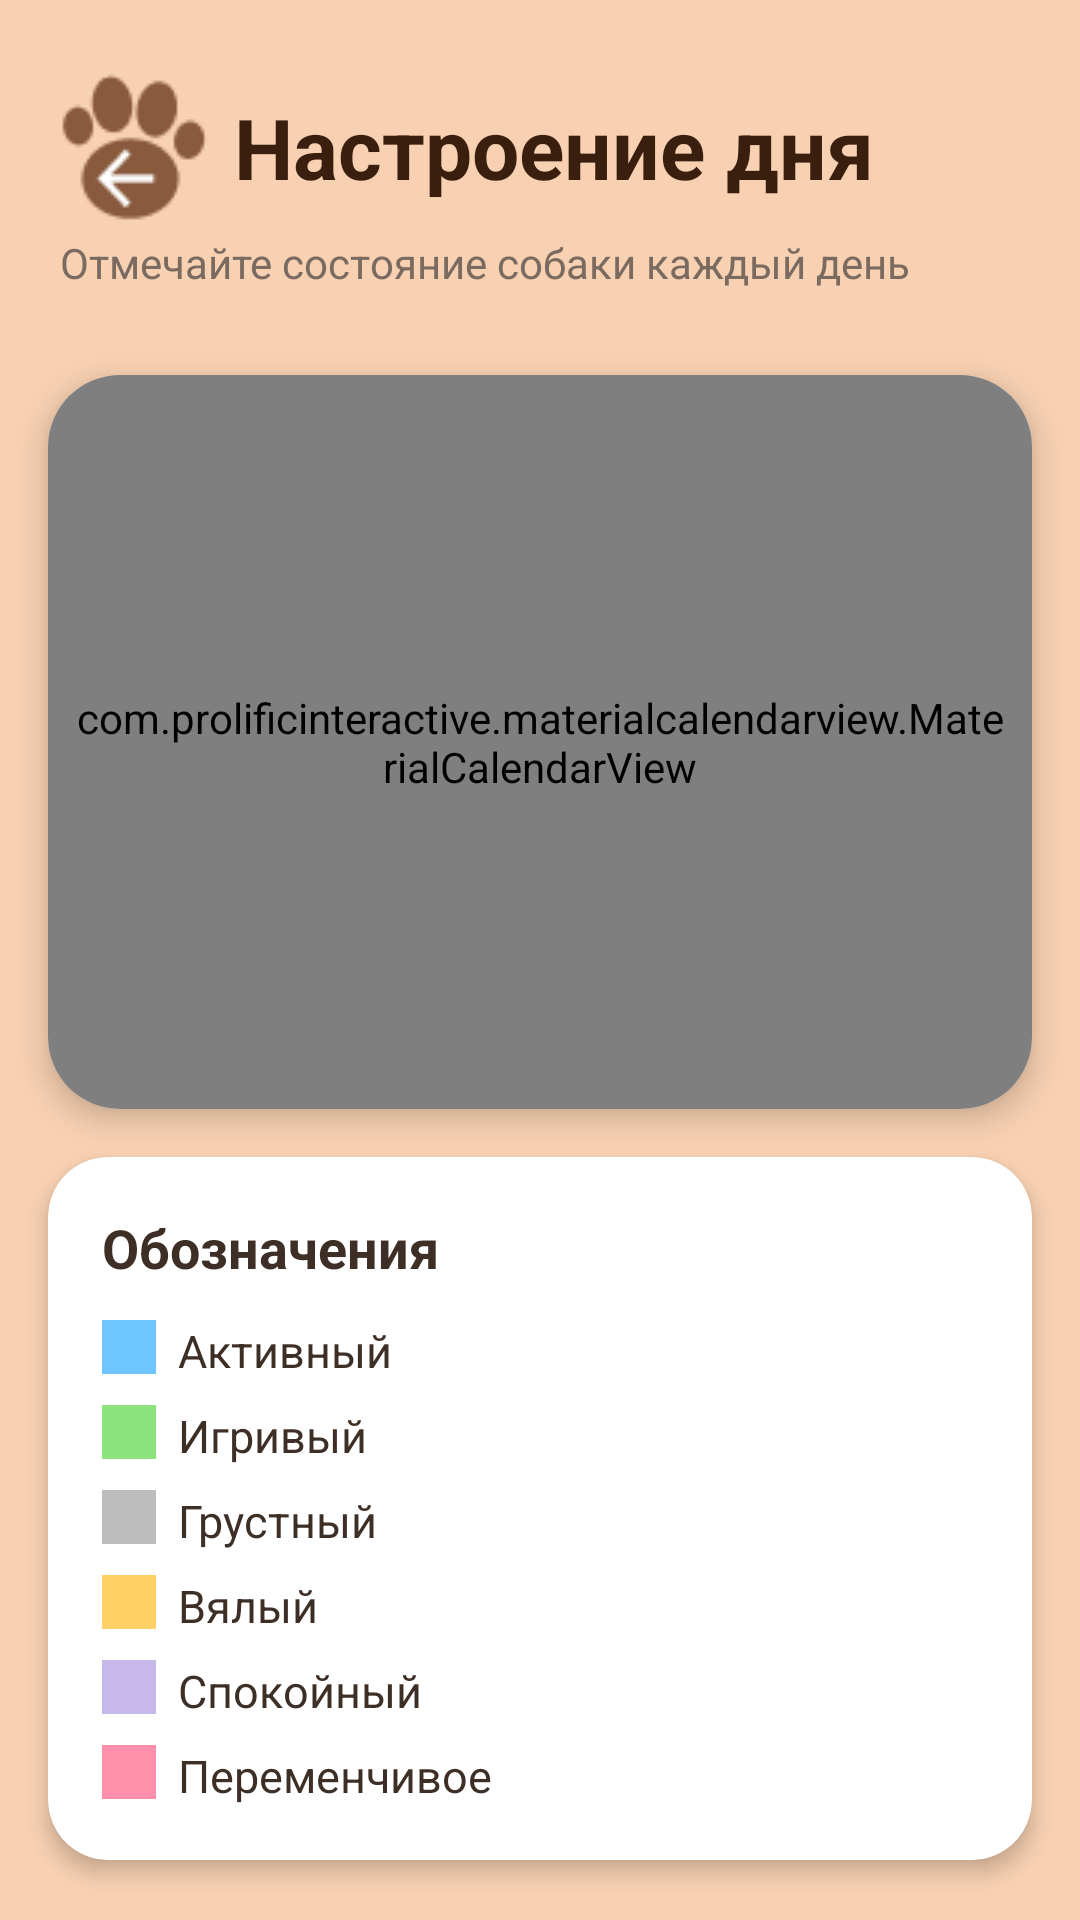

Named icons in this screenshot (1080 x 1920) and their bounding boxes, (x1, y1, x2, y2):
back: (62, 75, 205, 220)
